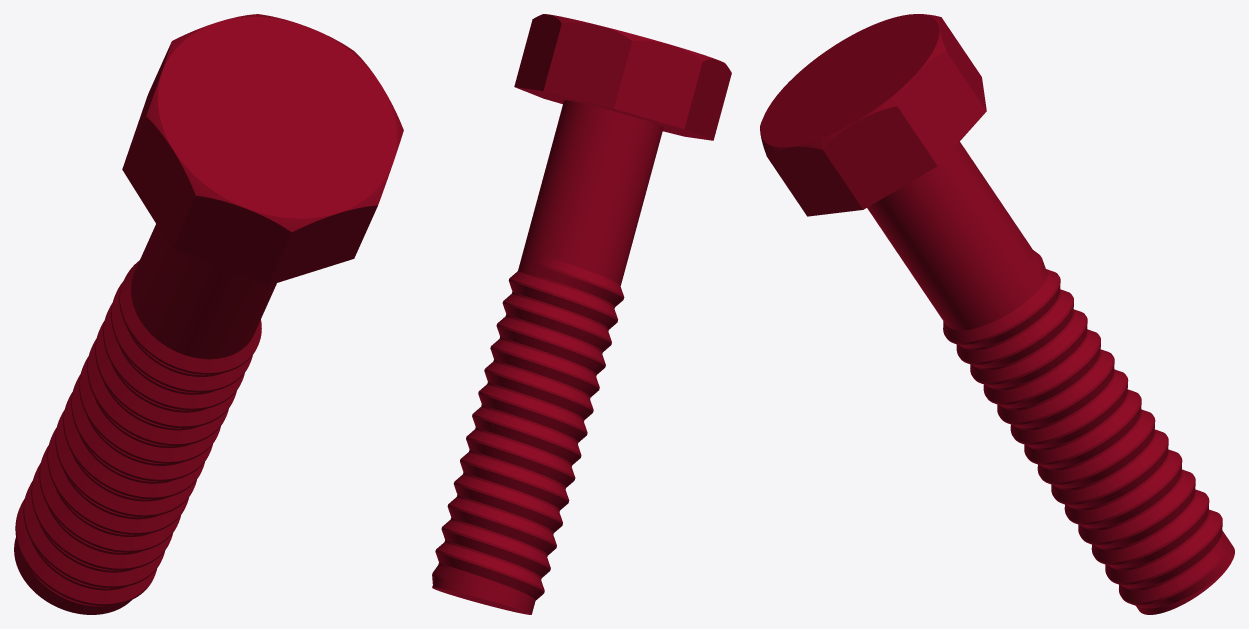
File: asset.glb
3 views of the same model, side by side, from view 1: azimuth 30°, elevation 25°; view 2: azimuth 150°, elevation 25°; view 3: azimuth 270°, elevation 25° (orthographic). The views are drawn at different scales.
Visible parts, largest first — view 1: node_id5, node_id8; view 2: node_id8, node_id5; view 3: node_id8, node_id5.
Boxes of the visible parts, x1,y1,x2,y2 form: node_id5: (122, 14, 403, 285); node_id8: (14, 224, 276, 614); node_id8: (432, 100, 663, 614); node_id5: (514, 14, 731, 140); node_id8: (867, 142, 1234, 614); node_id5: (760, 14, 986, 216).
Bounding box in the file's own units: 0.1718 × 0.504 × 0.3774.
2 materials, 2 textured.
